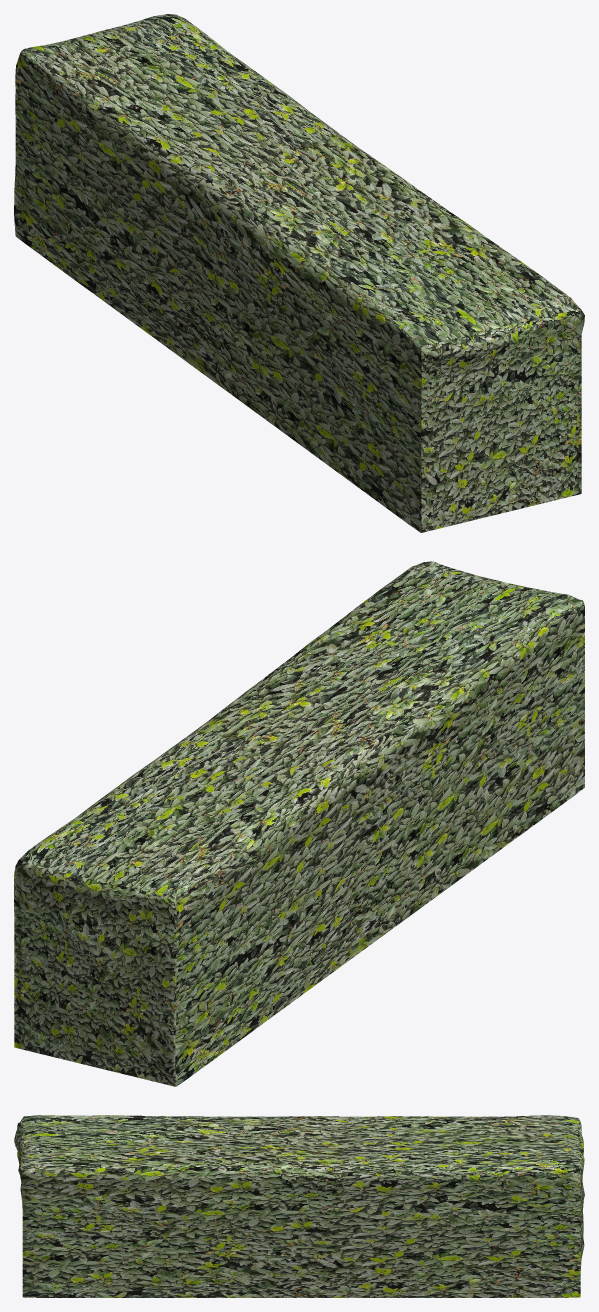
Rendered from HedgeMedium.fbx.
3 views of the same model, one above another, from view 1: azimuth 30°, elevation 25°; view 2: azimuth 150°, elevation 25°; view 3: azimuth 270°, elevation 25° (orthographic). The views are drawn at different scales.
Visible parts, largest first — view 1: hedgePiece; view 2: hedgePiece; view 3: hedgePiece.
Part boxes in pixels (x1,y1,x2,y2): hedgePiece: (14,14,584,532); hedgePiece: (14,561,584,1086); hedgePiece: (14,1115,584,1297).
Bounding box in the file's own units: 238 × 258 × 1000.
Materials: 1 (1 with a texture image).
